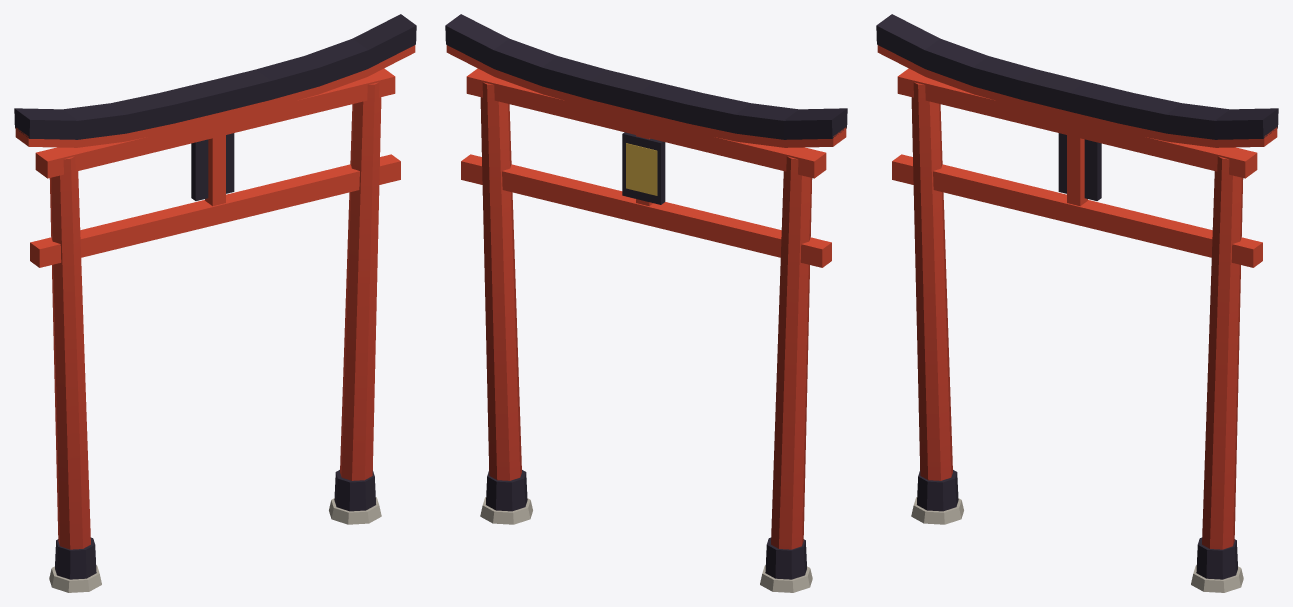
The model's file is torii_small.glb.
The picture shows the model from 3 angles, left to right: view 1: azimuth 30°, elevation 25°; view 2: azimuth 150°, elevation 25°; view 3: azimuth 330°, elevation 25°; orthographic projection.
Visible parts, largest first — view 1: torii_small; view 2: torii_small; view 3: torii_small.
Boxes of the visible parts, x1,y1,x2,y2 form: torii_small: (14,14,416,592); torii_small: (445,14,847,592); torii_small: (876,14,1278,592).
Size of the model in its own units: 2.21 by 2.63 by 0.272.
